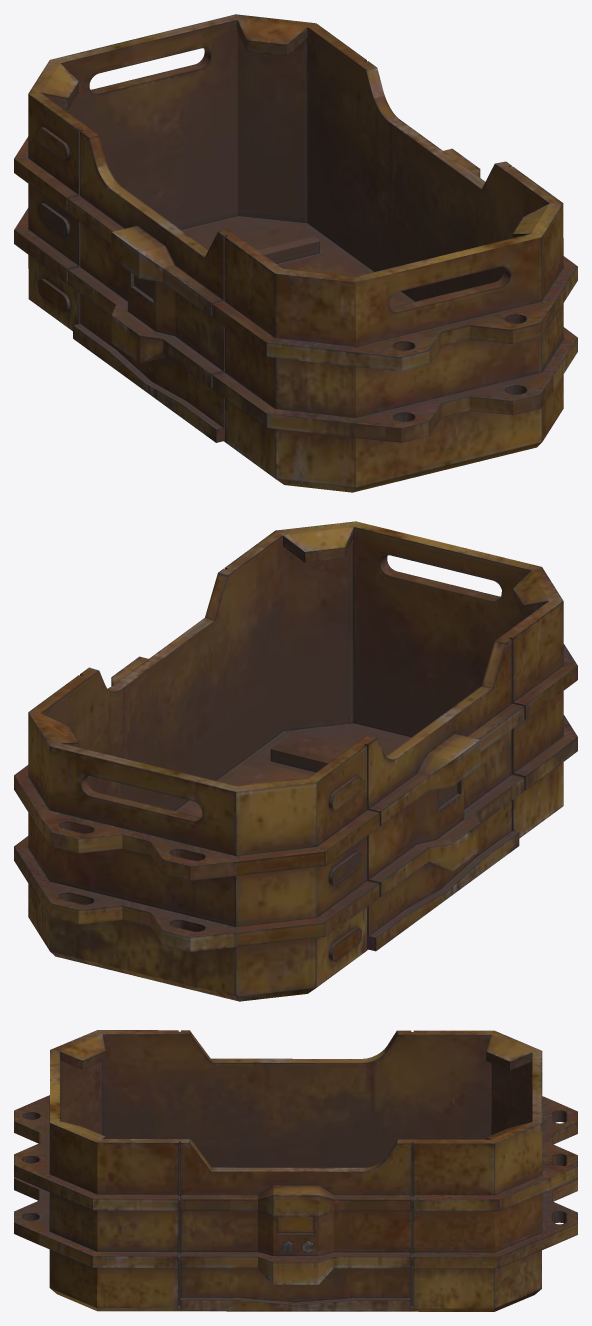
The model's file is rustycrate.glb.
The picture shows the model from 3 angles, top to bottom: view 1: azimuth 30°, elevation 25°; view 2: azimuth 150°, elevation 25°; view 3: azimuth 270°, elevation 25°; orthographic projection. The views are drawn at different scales.
Visible parts, largest first — view 1: Object_4; view 2: Object_4; view 3: Object_4.
Boxes of the visible parts, x1,y1,x2,y2 form: Object_4: (14,14,577,492); Object_4: (14,521,577,1001); Object_4: (14,1030,577,1311).
Size of the model in its own units: 0.8428 by 0.5402 by 1.5.
Materials: 1 (1 with a texture image).
